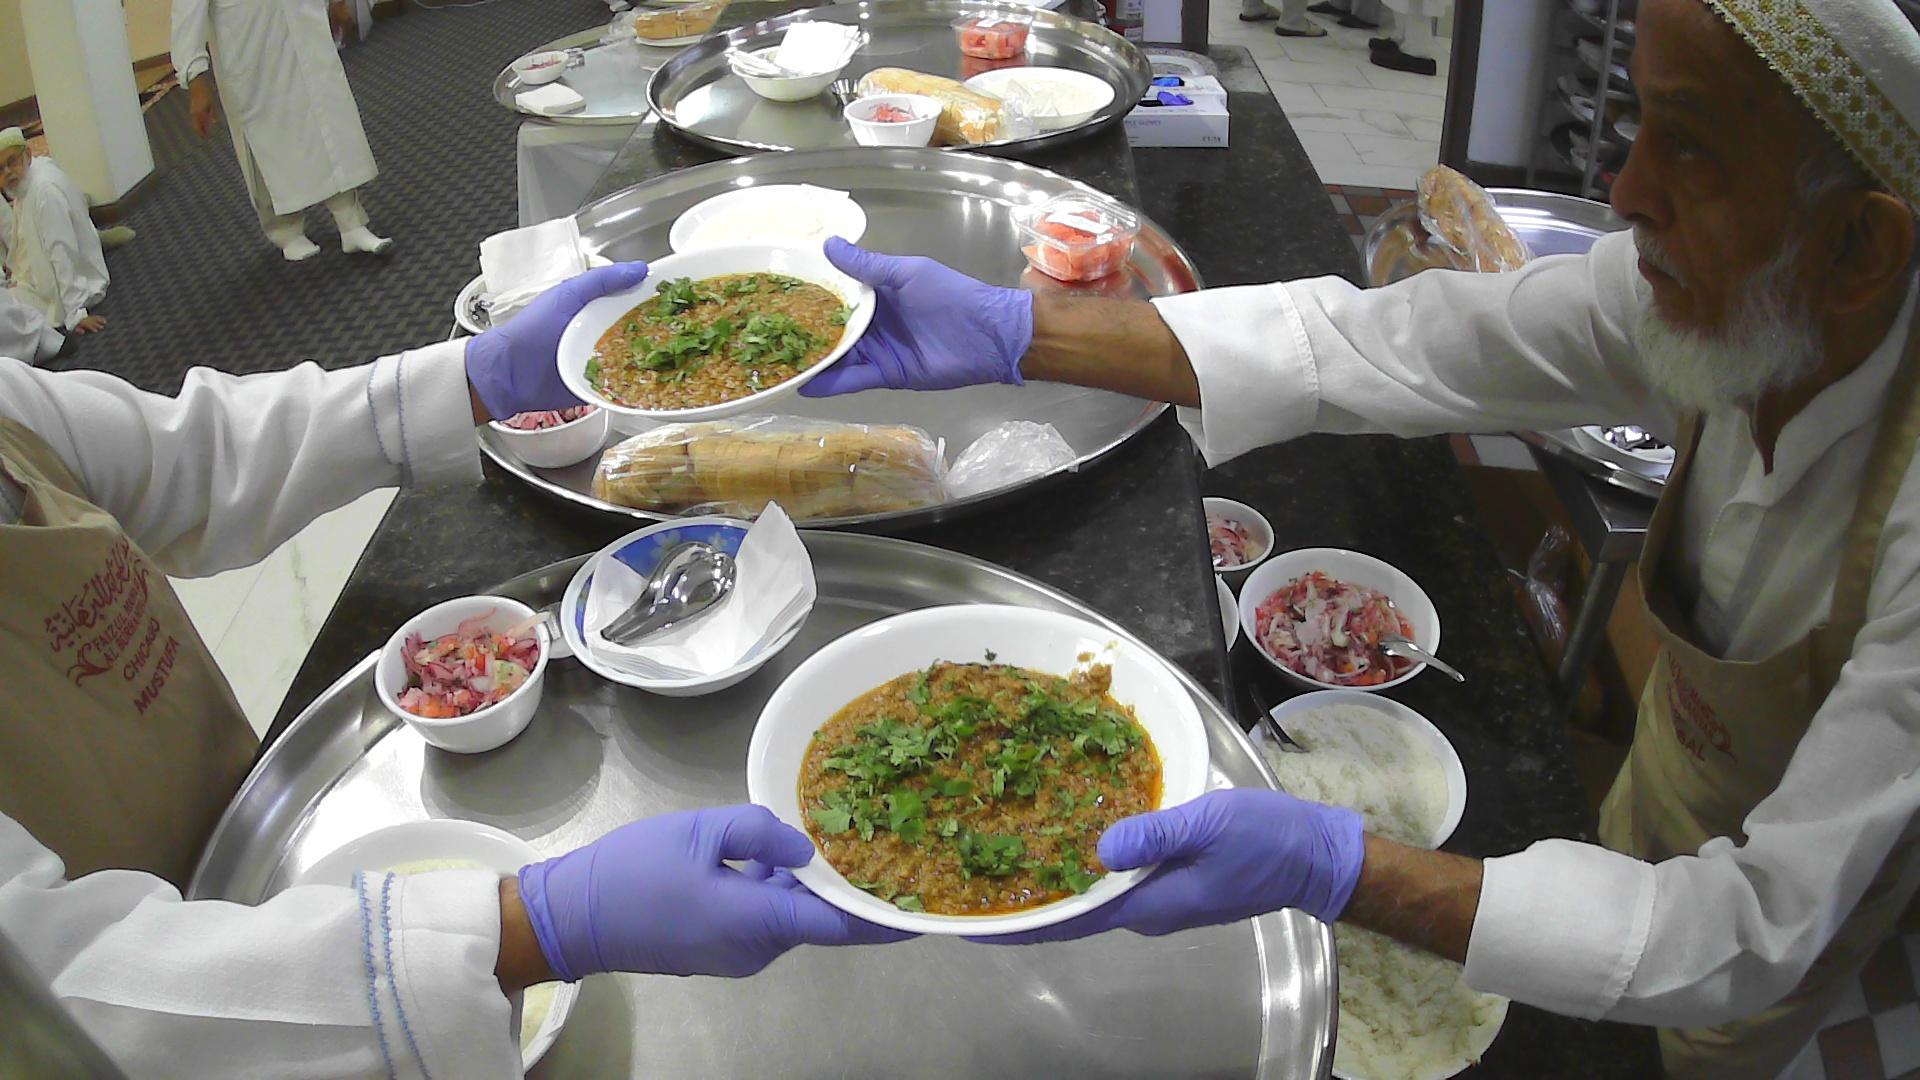thaal: (181, 525, 1342, 1080), (443, 142, 1212, 527), (1356, 182, 1677, 504), (645, 0, 1154, 160), (492, 17, 716, 129)
